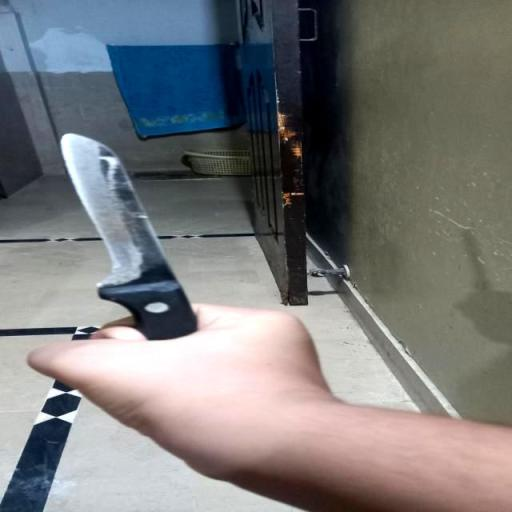knife: (43, 126, 223, 351)
